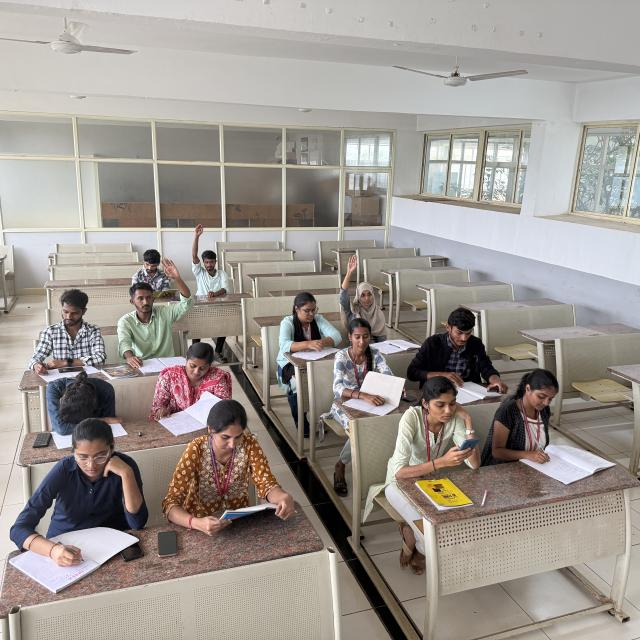Hand Rising: (118, 256, 188, 334), (341, 254, 389, 335), (192, 223, 232, 299)
Reading: (166, 398, 292, 524), (154, 343, 238, 435), (407, 311, 486, 398), (330, 318, 394, 409), (284, 294, 338, 359)
Sleeping: (44, 372, 124, 435)
Using Phone: (397, 377, 479, 478)
Writing: (28, 442, 124, 568), (504, 367, 578, 473)
